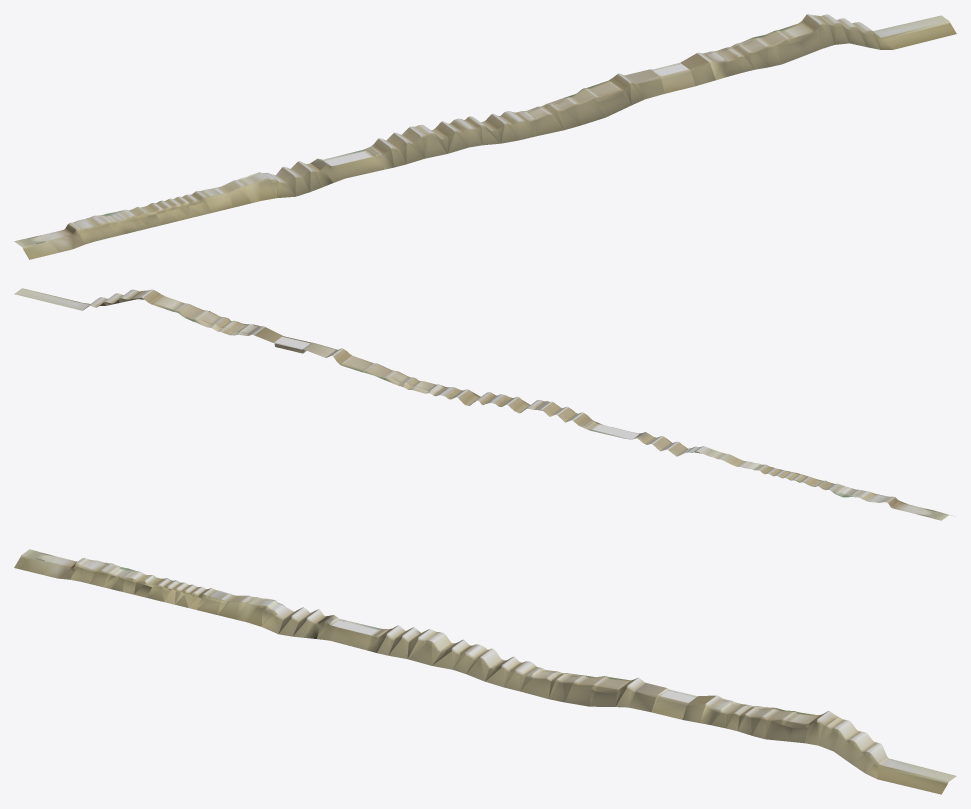
Rendered from Beach_10.fbx.
3 views of the same model, one above another, from view 1: azimuth 30°, elevation 25°; view 2: azimuth 150°, elevation 25°; view 3: azimuth 330°, elevation 25° (orthographic).
Visible parts, largest first — view 1: Road_01; view 2: Road_01, Sea_01; view 3: Road_01, Sea_01.
Boxes of the visible parts, x1,y1,x2,y2 form: Road_01: (14,14,956,259); Road_01: (14,288,952,520); Sea_01: (275,337,638,439); Road_01: (14,549,956,794); Sea_01: (332,620,695,702).
Bounding box in the file's own units: 93024 × 3727 × 3623.
